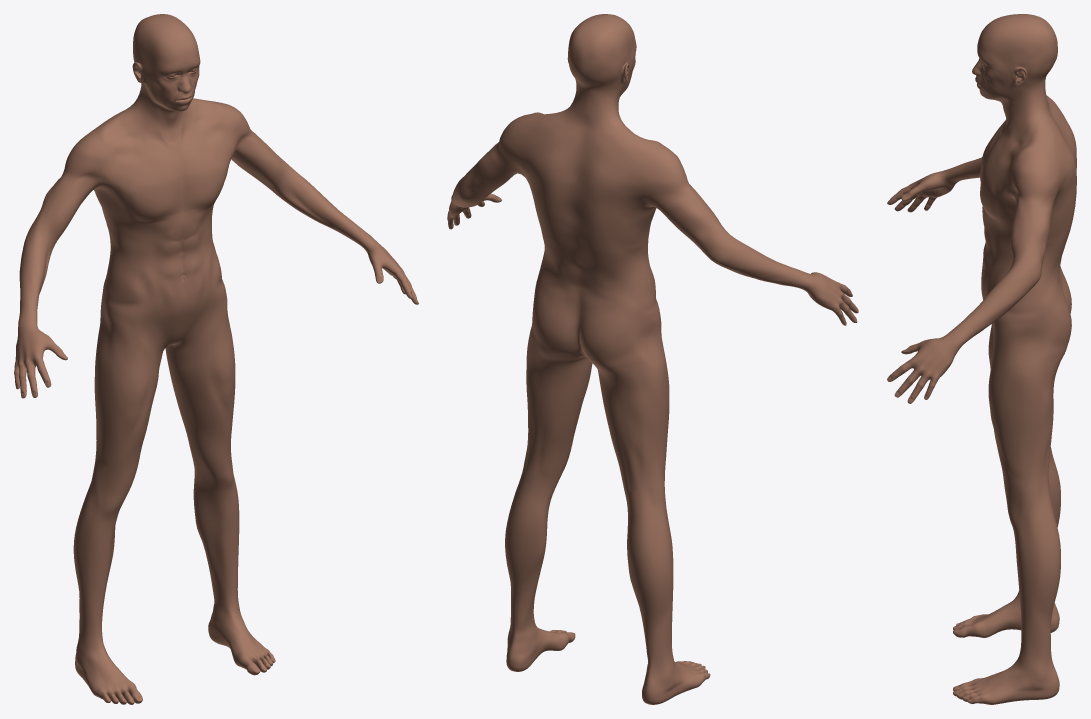
The model's file is body_human_armor_fit_t1_m.glb.
3 views of the same model, side by side, from view 1: azimuth 30°, elevation 25°; view 2: azimuth 150°, elevation 25°; view 3: azimuth 270°, elevation 25° (orthographic).
Visible parts, largest first — view 1: asset_body_reference; view 2: asset_body_reference; view 3: asset_body_reference.
Boxes of the visible parts, x1,y1,x2,y2 form: asset_body_reference: (14,14,418,704); asset_body_reference: (447,14,858,704); asset_body_reference: (887,14,1076,704).
Size of the model in its own units: 1.1 by 1.73 by 0.4595.
